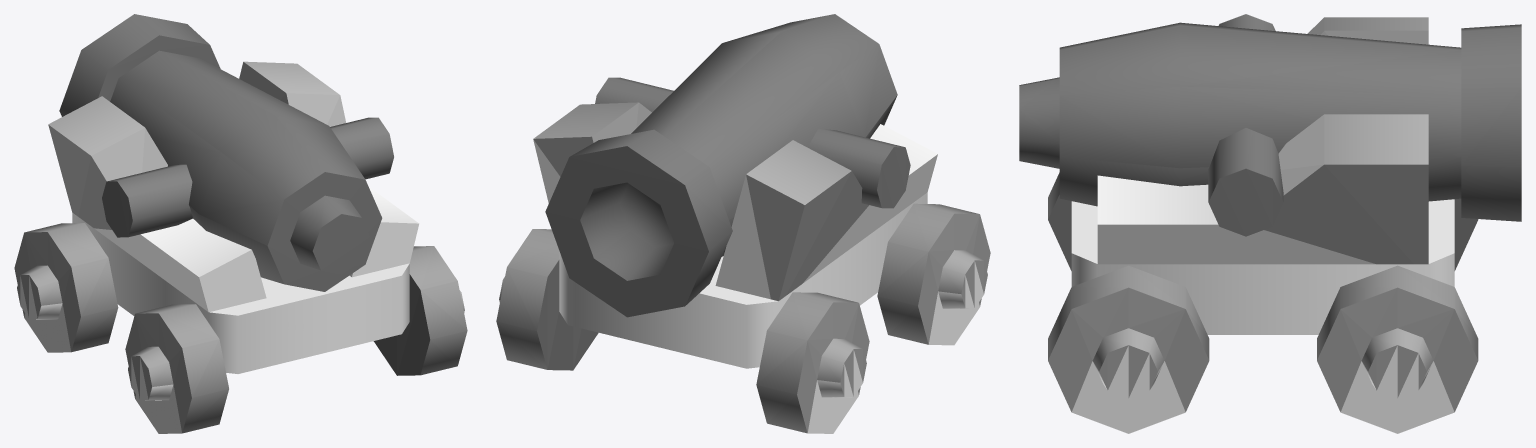
File: ruby_mortar.glb
3 views of the same model, side by side, from view 1: azimuth 30°, elevation 25°; view 2: azimuth 150°, elevation 25°; view 3: azimuth 270°, elevation 25° (orthographic). The views are drawn at different scales.
Parts seen in each view (by area): view 1: Body; view 2: Body; view 3: Body.
Boxes of the visible parts, box(x1,y1,x2,y2) form: Body: box(14, 14, 467, 433); Body: box(496, 14, 990, 433); Body: box(1019, 14, 1521, 433).
Size of the model in its own units: 3.92 by 3.23 by 4.5.
2 materials, 1 textured.
